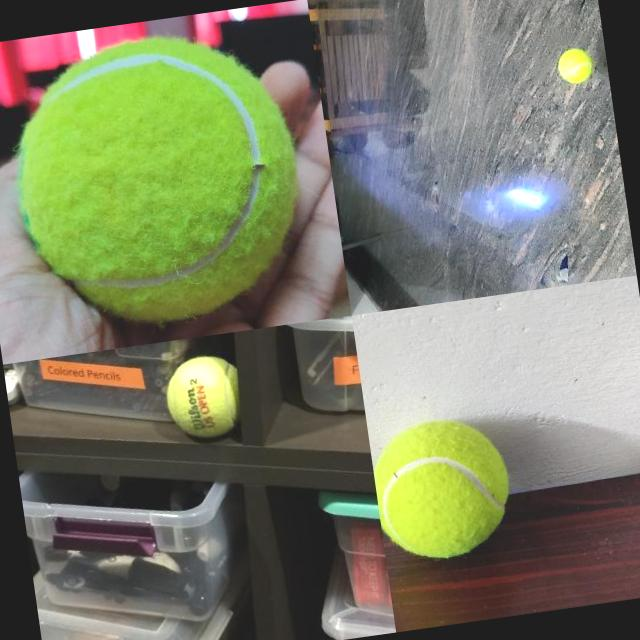Tennis Ball: (0, 20, 316, 341), (368, 411, 518, 567), (160, 351, 241, 443), (556, 46, 596, 86)
